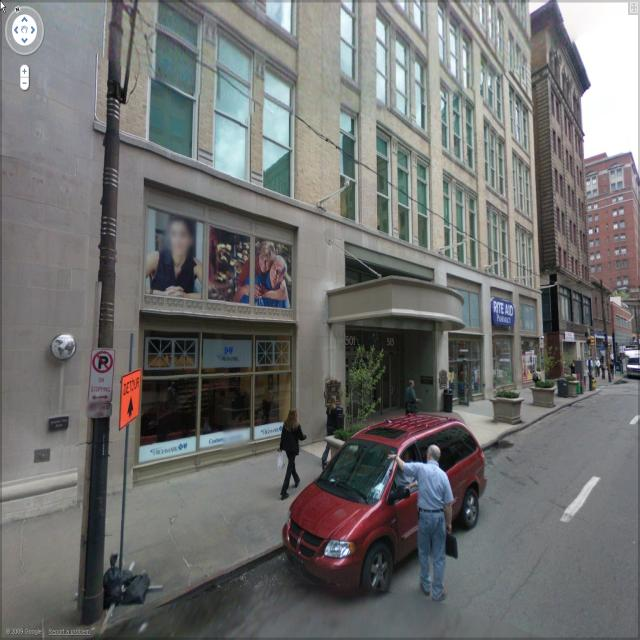window: (139, 332, 205, 464), (149, 1, 199, 162), (202, 333, 258, 446), (212, 27, 250, 185), (263, 66, 304, 197), (253, 339, 299, 437), (336, 109, 361, 223), (372, 128, 396, 234), (335, 1, 363, 88), (393, 143, 415, 245), (417, 152, 435, 252), (394, 36, 411, 128), (374, 15, 390, 106), (412, 56, 428, 136)
